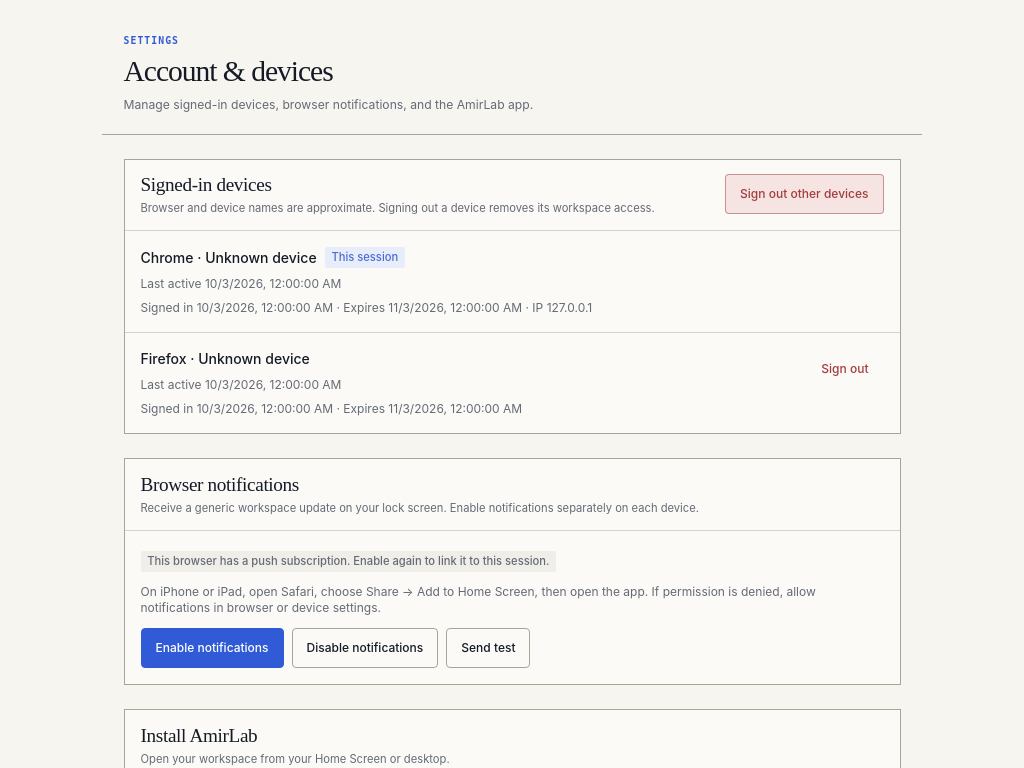
Test: explains how to link an unbound browser subscription when no test is queued
Expected: the text "This browser has a push subscription. Enable again to link it to this session." is shown, [140,551,556,572]
What coordinates should you click on to do the following:
click the button "Send test"
I would click on:
 (488, 648)
Its box is [446,628,530,668].
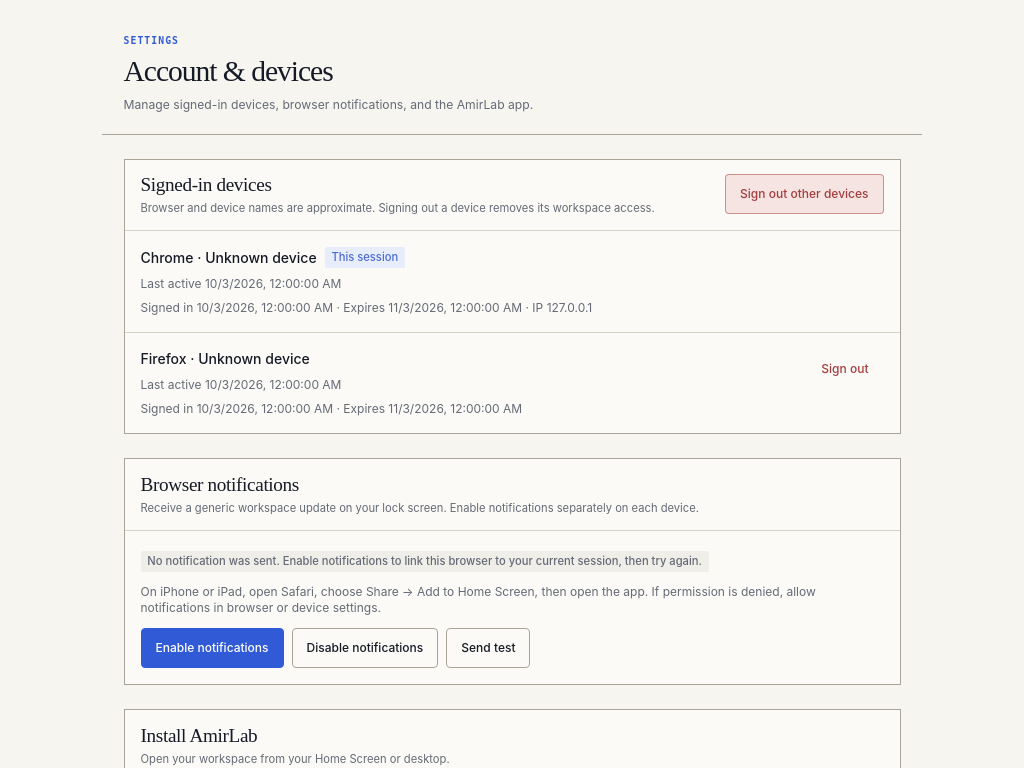
Result: the text "No notification was sent. Enable notifications to link this browser to your current session, then try again." is shown at [147,554,702,568]
